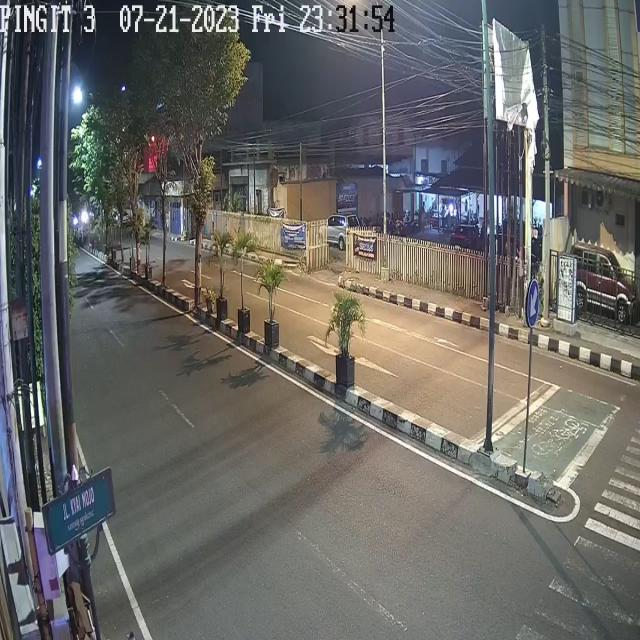car: (571, 243, 640, 329)
